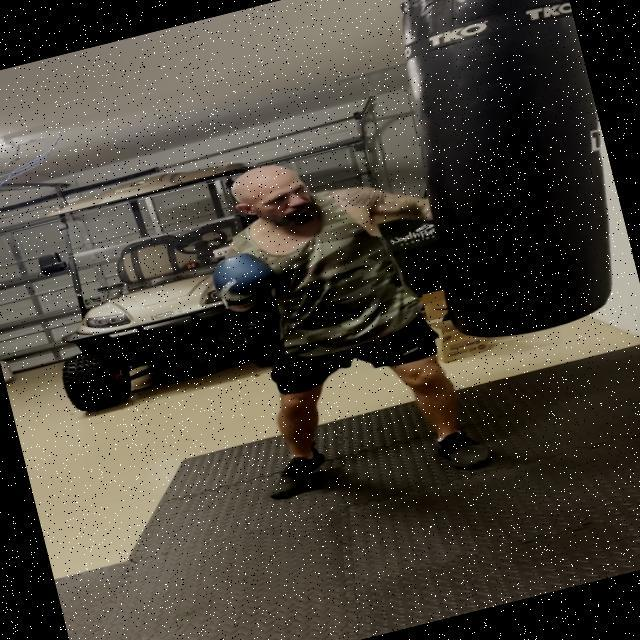bag: (377, 0, 640, 361)
hook: (175, 98, 479, 340)
